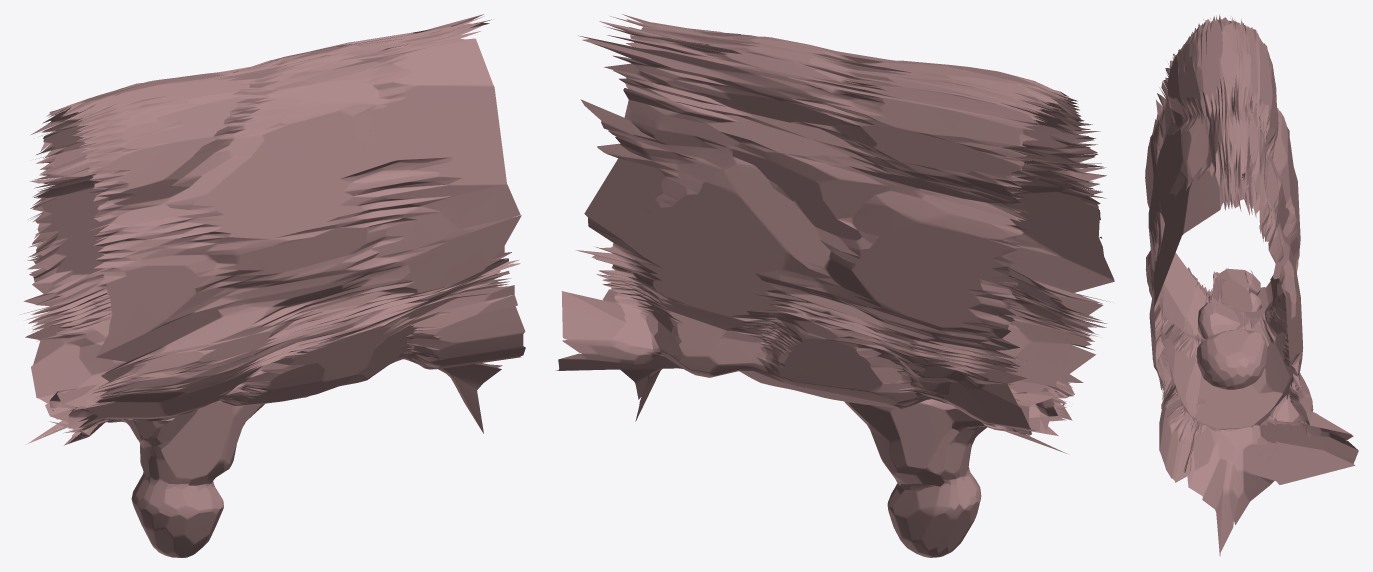
Rendered from mini_canyon.fbx_Cube__12__006LODs.fbx.
3 views of the same model, side by side, from view 1: azimuth 30°, elevation 25°; view 2: azimuth 150°, elevation 25°; view 3: azimuth 270°, elevation 25° (orthographic). The views are drawn at different scales.
Visible parts, largest first — view 1: Cube (12).006_LOD0; view 2: Cube (12).006_LOD0; view 3: Cube (12).006_LOD0.
Part boxes in pixels (x1,y1,x2,y2): Cube (12).006_LOD0: (20, 14, 525, 557); Cube (12).006_LOD0: (555, 14, 1114, 557); Cube (12).006_LOD0: (1145, 14, 1358, 556).
Size of what is drawn, in the model's own units: 2310 by 2217 by 1030.
